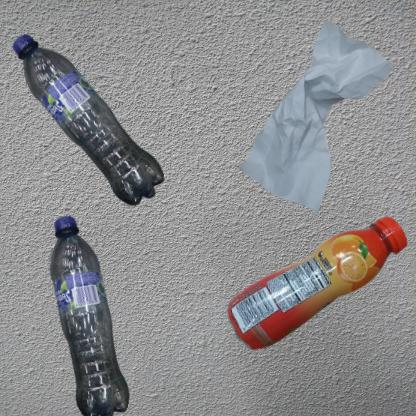botella: (10, 10, 185, 249), (10, 213, 185, 416), (213, 213, 416, 372)
papel: (213, 10, 416, 239)
